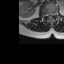CCS_normal: (49, 10, 51, 19)
LFS_normal: (53, 10, 55, 17)
LLS_normal: (51, 11, 53, 18)
RFS_normal: (44, 11, 46, 18)
RLS_normal: (46, 11, 49, 18)
